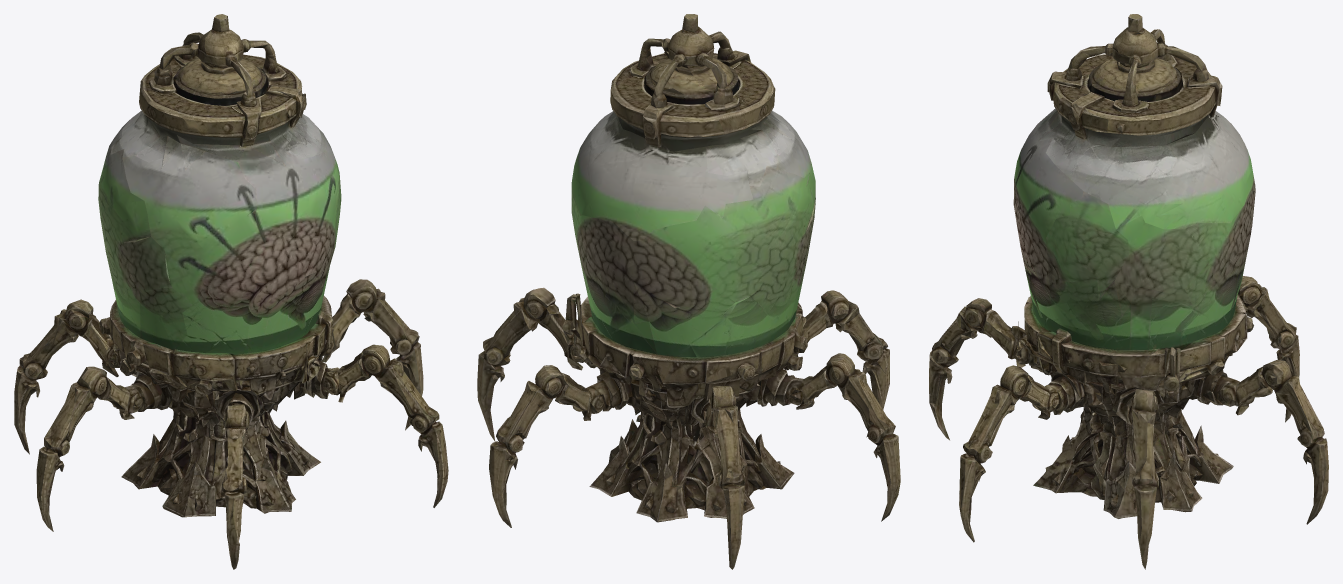
File: brainjar.glb
3 views of the same model, side by side, from view 1: azimuth 30°, elevation 25°; view 2: azimuth 150°, elevation 25°; view 3: azimuth 270°, elevation 25° (orthographic).
Parts seen in each view (by area): view 1: Mesh_0; view 2: Mesh_0; view 3: Mesh_0.
Boxes of the visible parts, bbox=[...] form: Mesh_0: bbox=[14, 14, 448, 569]; Mesh_0: bbox=[477, 14, 900, 569]; Mesh_0: bbox=[929, 14, 1328, 569].
Size of the model in its own units: 1.7 by 1.9 by 1.48.
1 material, 1 textured.
